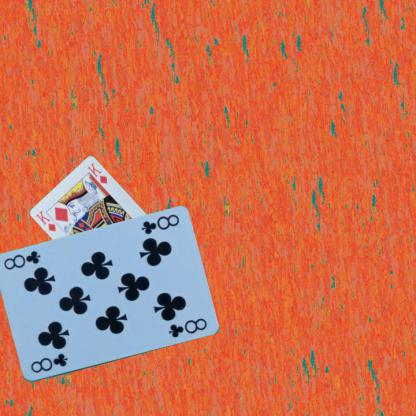8c: (139, 212, 180, 236), (28, 351, 68, 374)
Kd: (34, 208, 57, 233)
